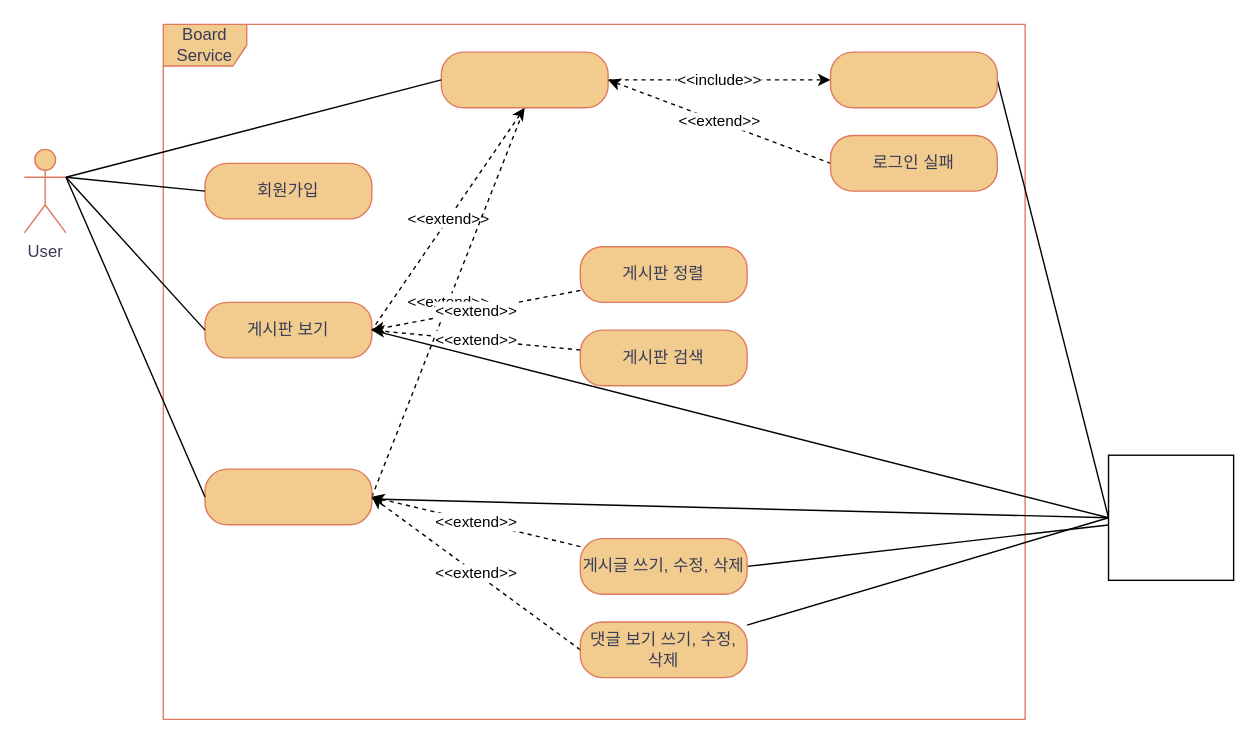
Image size: 1258x744. Some labels were removed from this diagram. Each missing label, with the centre of its shape:
"DB" goes at (x=1170, y=517).
"게시글 보기" goes at (x=288, y=496).
"로그인" goes at (x=524, y=79).
"인증" goes at (x=913, y=79).
